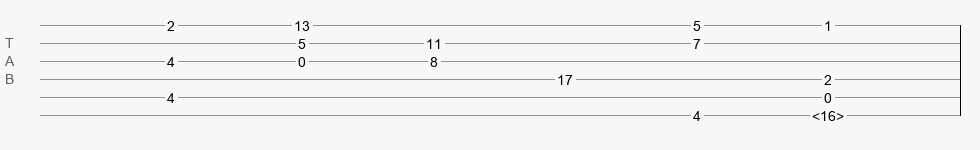0: (298, 54, 306, 64), (824, 90, 832, 100)
1: (824, 18, 832, 28)
11: (426, 36, 442, 46)
13: (294, 18, 310, 28)
17: (557, 72, 573, 82)
2: (167, 18, 175, 28), (824, 72, 832, 82)
4: (167, 90, 175, 100), (167, 54, 175, 64), (693, 108, 701, 118)
5: (298, 36, 306, 46), (693, 18, 701, 28)
7: (693, 36, 701, 46)
8: (430, 54, 438, 64)
harmonic: (812, 108, 844, 118)
